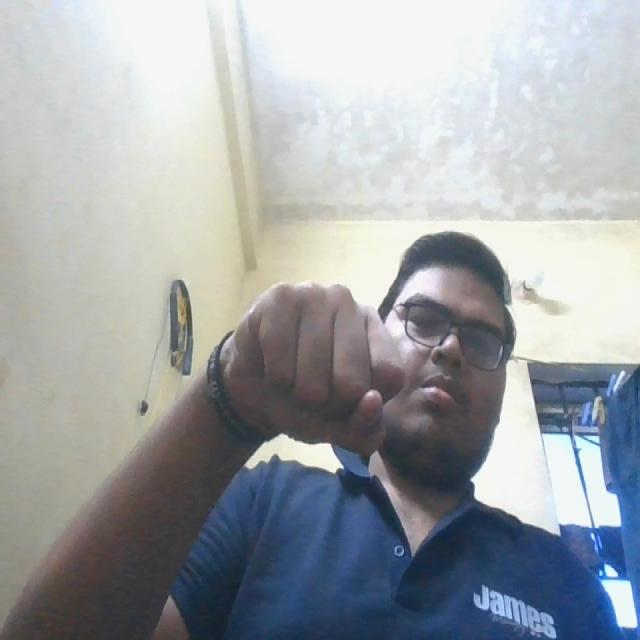Yes: (221, 224, 409, 470)
